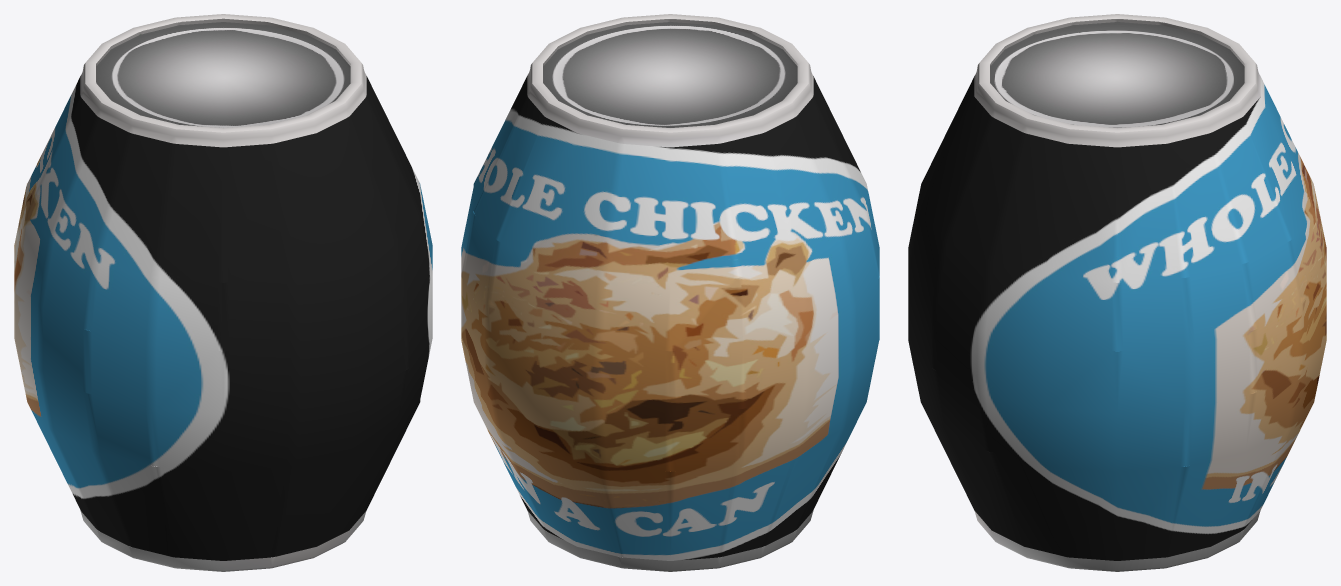
Rendered from food can - whole chicken.fbx.
The picture shows the model from 3 angles, left to right: view 1: azimuth 30°, elevation 25°; view 2: azimuth 150°, elevation 25°; view 3: azimuth 270°, elevation 25°; orthographic projection.
Visible parts, largest first — view 1: food can - whole chicken; view 2: food can - whole chicken; view 3: food can - whole chicken.
Boxes of the visible parts, left/top/right/bottom form: food can - whole chicken: left=14, top=14, right=432, bottom=571; food can - whole chicken: left=461, top=14, right=879, bottom=571; food can - whole chicken: left=908, top=14, right=1326, bottom=571.
Size of the model in its own units: 33.37 by 38.23 by 32.9.
